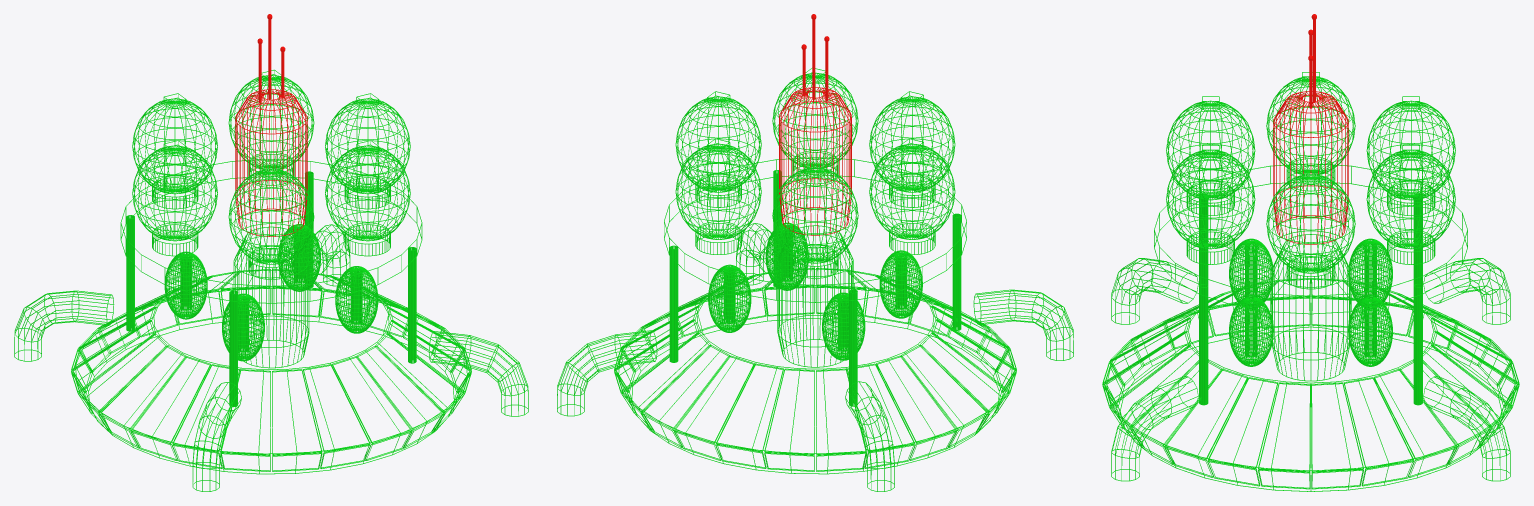
File: powerplant-highlight-control-computer-and-antennae.glb
3 renders of one model, left to right at view 1: azimuth 30°, elevation 25°; view 2: azimuth 150°, elevation 25°; view 3: azimuth 270°, elevation 25°, orthographic. The views are drawn at different scales.
Parts seen in each view (by area): view 1: six-fusion-reactor-cells technical wire, chassis technical wire, asteros-mini-mining-facility technical wire, four-waste-ore-pipes technical wire, control-computer-and-antennae technical wire; view 2: six-fusion-reactor-cells technical wire, chassis technical wire, asteros-mini-mining-facility technical wire, four-waste-ore-pipes technical wire, control-computer-and-antennae technical wire; view 3: six-fusion-reactor-cells technical wire, chassis technical wire, asteros-mini-mining-facility technical wire, four-waste-ore-pipes technical wire, control-computer-and-antennae technical wire.
Part boxes in pixels (box(x1,y1,x2,y2)): six-fusion-reactor-cells technical wire: box(132, 69, 410, 279); chassis technical wire: box(71, 159, 471, 474); asteros-mini-mining-facility technical wire: box(164, 224, 378, 368); four-waste-ore-pipes technical wire: box(14, 224, 528, 491); control-computer-and-antennae technical wire: box(235, 14, 307, 236); six-fusion-reactor-cells technical wire: box(675, 68, 955, 278); chassis technical wire: box(614, 157, 1016, 474); asteros-mini-mining-facility technical wire: box(708, 222, 922, 367); four-waste-ore-pipes technical wire: box(557, 223, 1073, 491); control-computer-and-antennae technical wire: box(779, 14, 851, 235); six-fusion-reactor-cells technical wire: box(1166, 72, 1455, 289); chassis technical wire: box(1102, 163, 1519, 491); asteros-mini-mining-facility technical wire: box(1229, 234, 1392, 381); four-waste-ore-pipes technical wire: box(1111, 258, 1510, 481); control-computer-and-antennae technical wire: box(1273, 14, 1348, 244).
Bounding box in the file's own units: 2.45 × 2.57 × 2.45.
